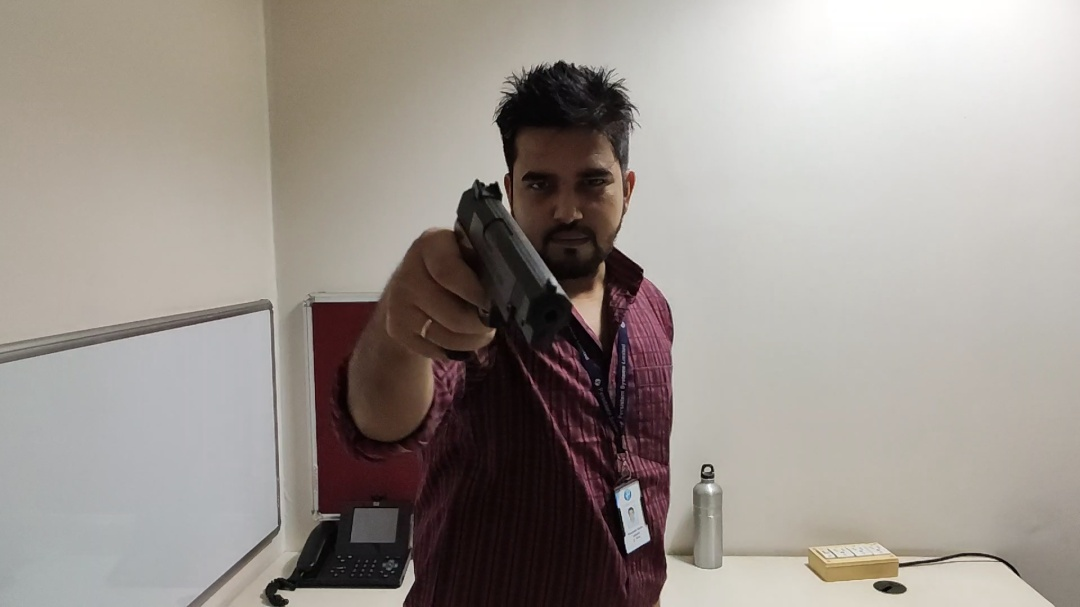gun: (431, 180, 575, 389)
